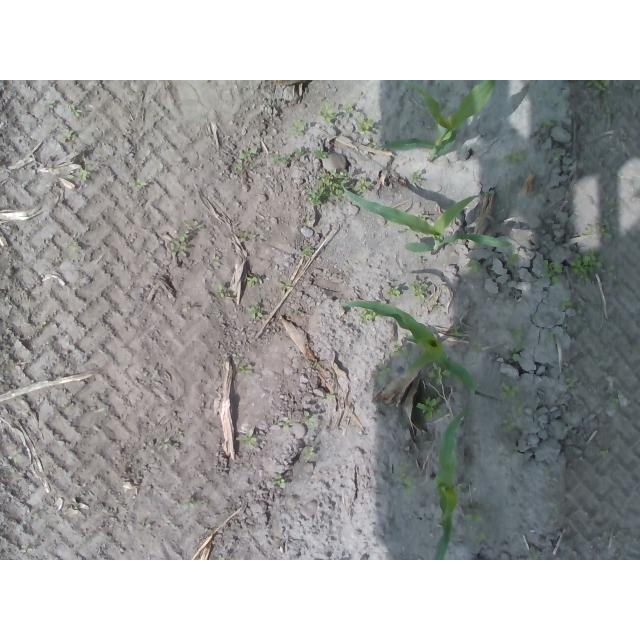Maize: (340, 295, 480, 401), (332, 176, 513, 253), (381, 80, 496, 165), (431, 396, 474, 560)
Weeds: (305, 167, 373, 205), (169, 220, 206, 258), (568, 250, 605, 285), (271, 144, 327, 165), (231, 144, 260, 172), (413, 393, 443, 420), (500, 400, 524, 433), (401, 462, 420, 495), (578, 80, 615, 96), (410, 277, 431, 304), (583, 222, 611, 241), (542, 260, 562, 285), (235, 430, 257, 451), (427, 362, 449, 383), (562, 367, 579, 393), (498, 382, 522, 399), (233, 353, 251, 375), (356, 307, 377, 323), (465, 508, 485, 524), (505, 151, 527, 165), (60, 126, 77, 144), (319, 104, 335, 123), (286, 122, 305, 138), (379, 366, 394, 386), (354, 119, 375, 133), (302, 410, 315, 431), (501, 350, 519, 365), (383, 286, 402, 299), (300, 446, 316, 461), (272, 474, 287, 490), (129, 179, 149, 190), (247, 305, 262, 319), (67, 104, 82, 118), (390, 345, 411, 355), (240, 233, 259, 244), (559, 300, 574, 313), (279, 418, 290, 435), (411, 172, 425, 185), (467, 260, 480, 274), (509, 326, 523, 339), (606, 396, 618, 409), (245, 275, 259, 286), (478, 529, 490, 541), (302, 246, 313, 259), (448, 327, 461, 338), (598, 447, 610, 457), (416, 213, 428, 223), (78, 167, 86, 180), (342, 104, 353, 112), (46, 100, 54, 110), (219, 287, 226, 298), (529, 555, 543, 560)
